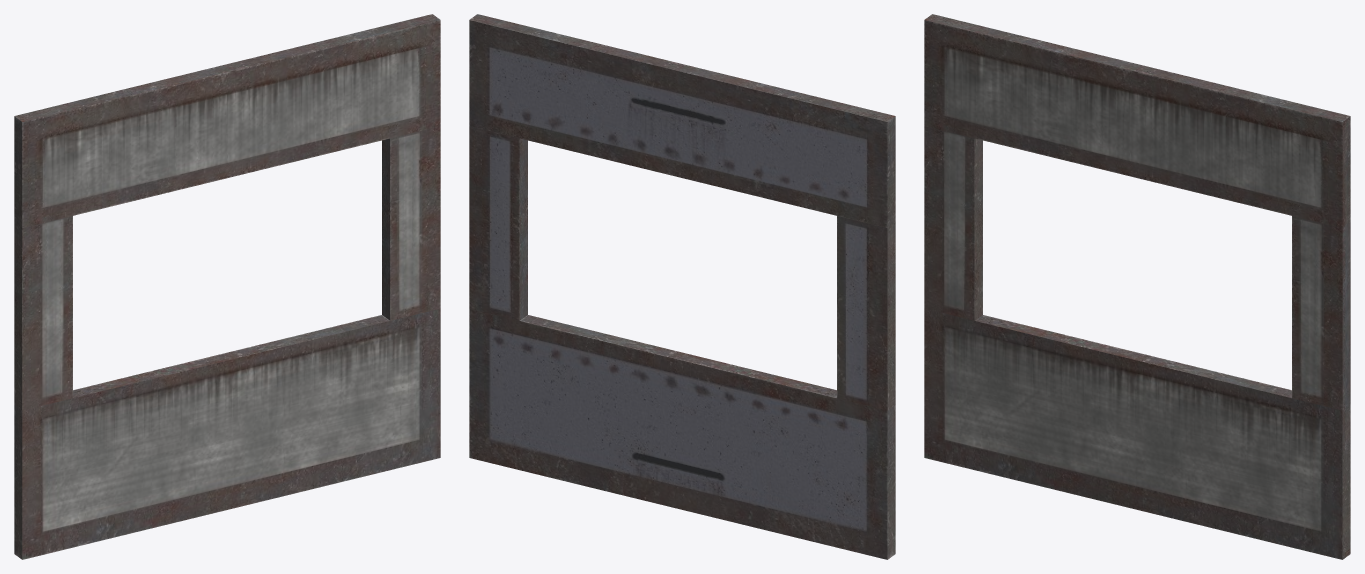
Rendered from armored_window_textured.glb.
3 views of the same model, side by side, from view 1: azimuth 30°, elevation 25°; view 2: azimuth 150°, elevation 25°; view 3: azimuth 330°, elevation 25° (orthographic).
Parts seen in each view (by area): view 1: Cube.001; view 2: Cube.001; view 3: Cube.001.
Part boxes in pixels (x1,y1,x2,y2): Cube.001: [14, 14, 440, 559]; Cube.001: [469, 14, 895, 559]; Cube.001: [924, 14, 1350, 559].
Bounding box in the file's own units: 2 × 2 × 0.0681.
Materials: 1 (1 with a texture image).
